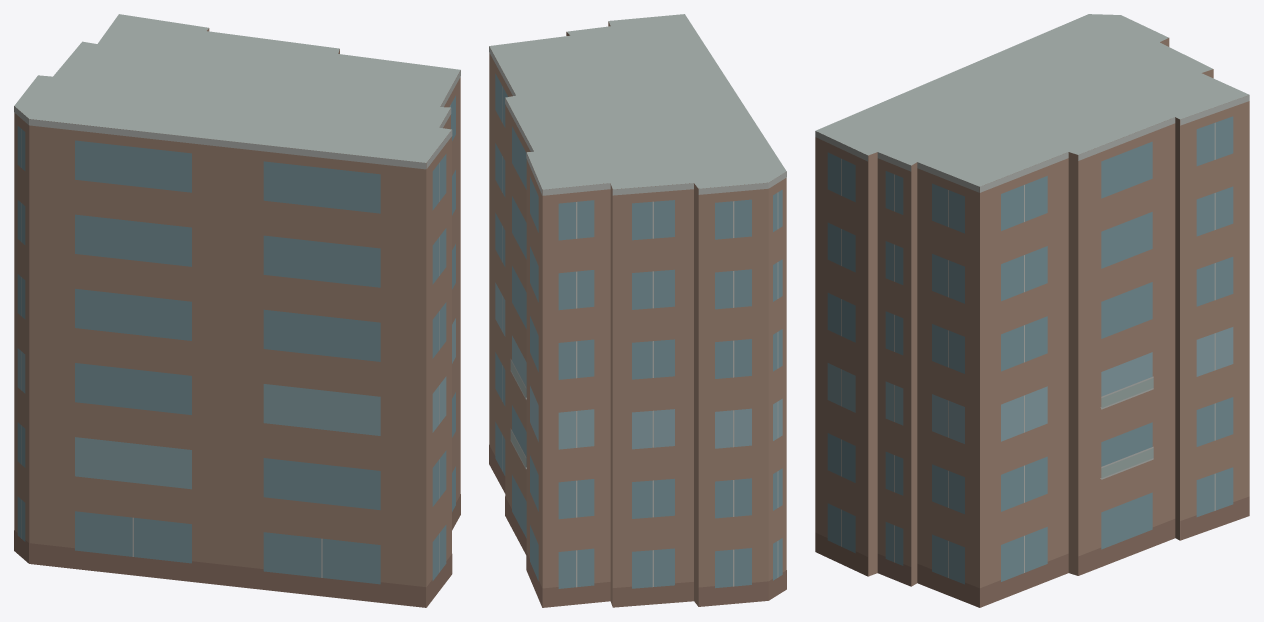
File: survey-upis-32963105.glb
3 renders of one model, left to right at view 1: azimuth 30°, elevation 25°; view 2: azimuth 150°, elevation 25°; view 3: azimuth 270°, elevation 25°, orthographic. The views are drawn at different scales.
Visible parts, largest first — view 1: survey-upis-32963105.tmp; view 2: survey-upis-32963105.tmp; view 3: survey-upis-32963105.tmp.
Part boxes in pixels (<box>): survey-upis-32963105.tmp: <box>14,14,460,607</box>; survey-upis-32963105.tmp: <box>489,14,786,607</box>; survey-upis-32963105.tmp: <box>815,14,1249,607</box>.
Size of the model in its own units: 14.7 by 16.7 by 15.62.
